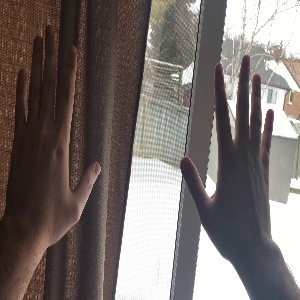hand: (7, 26, 100, 238), (182, 56, 272, 243)
